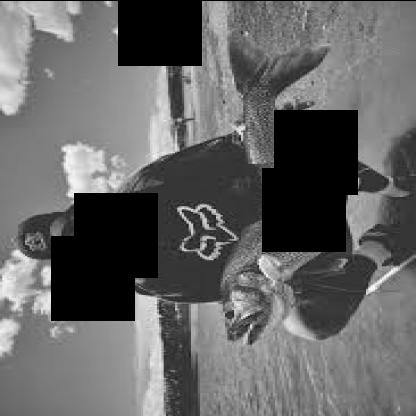fish: (212, 30, 352, 350)
